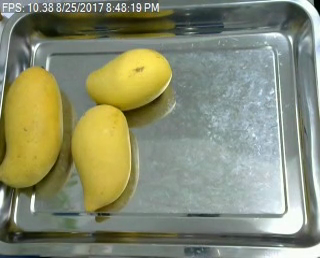Mango: (0, 61, 67, 191), (70, 102, 134, 214), (80, 45, 172, 110)
